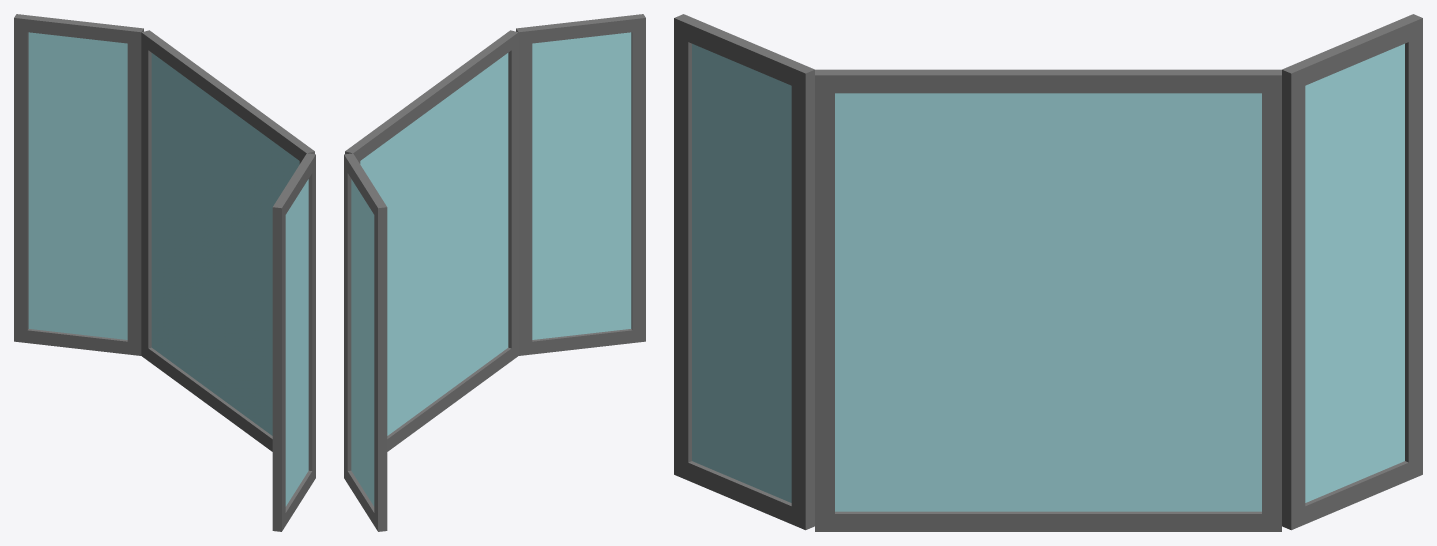
Rendered from Fireplace_Protector.FBX.
3 renders of one model, left to right at view 1: azimuth 30°, elevation 25°; view 2: azimuth 150°, elevation 25°; view 3: azimuth 270°, elevation 25°, orthographic. The views are drawn at different scales.
Parts seen in each view (by area): view 1: Fireplace_Protector; view 2: Fireplace_Protector; view 3: Fireplace_Protector.
Part boxes in pixels (box(x1,y1,x2,y2)): Fireplace_Protector: box(14, 14, 315, 531); Fireplace_Protector: box(344, 14, 645, 531); Fireplace_Protector: box(674, 14, 1422, 531).
Bounding box in the file's own units: 10.91 × 37.93 × 56.35.
